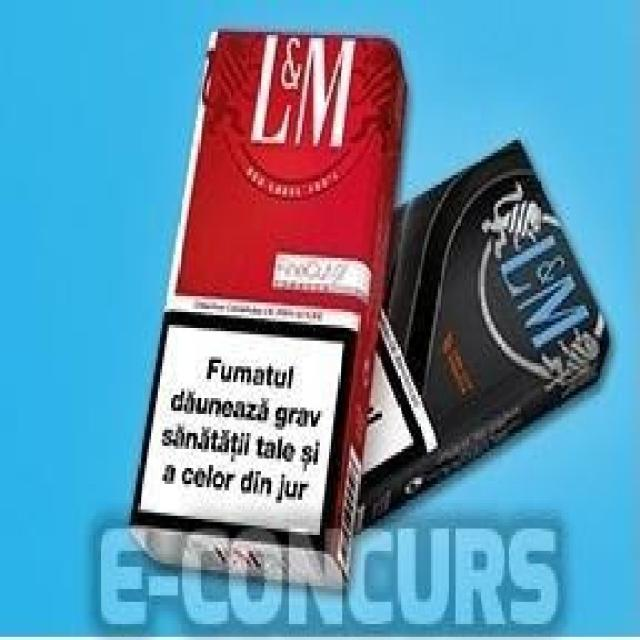lm: (130, 22, 404, 594), (350, 135, 610, 542)
